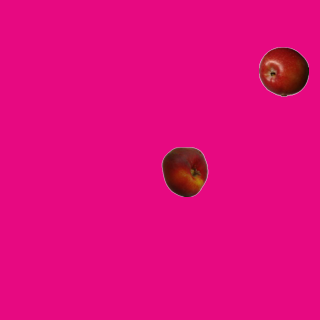Apple Braeburn: (258, 46, 308, 96)
Nectarine Flat: (159, 146, 209, 196)
